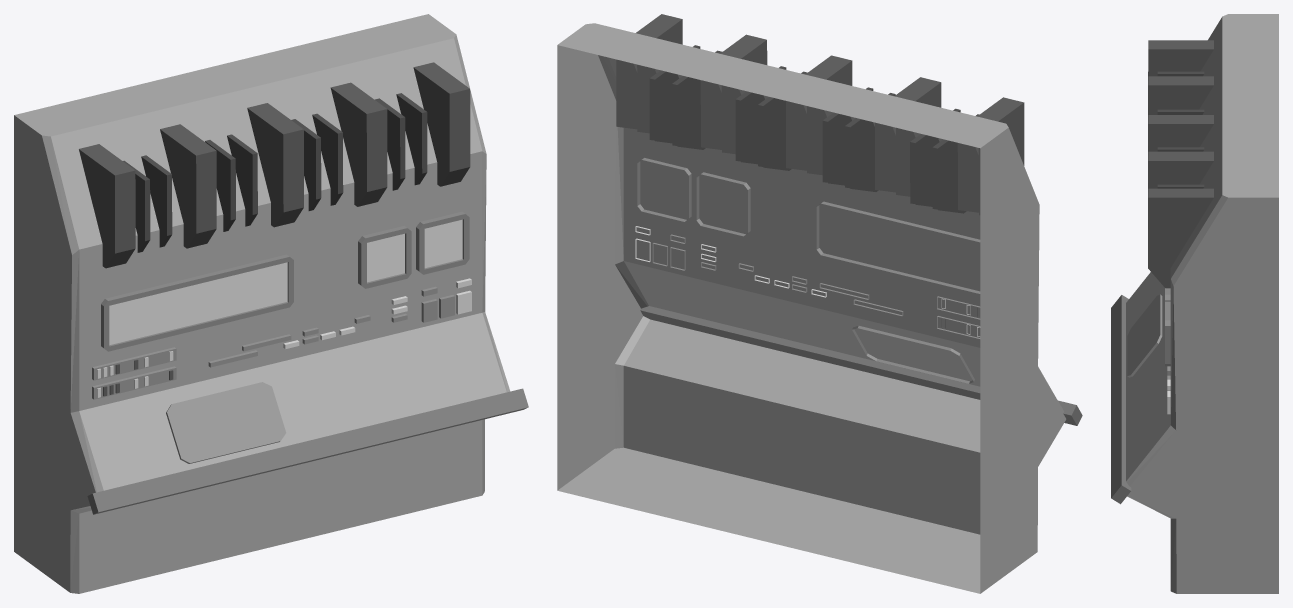
File: large_console_B.FBX
The picture shows the model from 3 angles, left to right: view 1: azimuth 30°, elevation 25°; view 2: azimuth 150°, elevation 25°; view 3: azimuth 270°, elevation 25°; orthographic projection. The views are drawn at different scales.
Parts seen in each view (by area): view 1: console_large_B, console_large_B_glow; view 2: console_large_B; view 3: console_large_B.
Part boxes in pixels (left/top/right/bottom): console_large_B: left=14, top=14, right=528, bottom=593; console_large_B_glow: left=97, top=219, right=471, bottom=397; console_large_B: left=557, top=14, right=1082, bottom=593; console_large_B: left=1111, top=14, right=1278, bottom=593.
Bounding box in the file's own units: 166 × 160 × 61.52.
